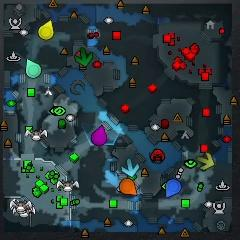p1: (166, 179, 182, 199)
p2: (26, 59, 41, 79)
p3: (91, 125, 107, 146)
p4: (38, 20, 54, 40)
p5: (119, 178, 137, 195)
x2: (197, 152, 214, 169)
x3: (122, 159, 140, 176)
x4: (76, 47, 93, 67)
